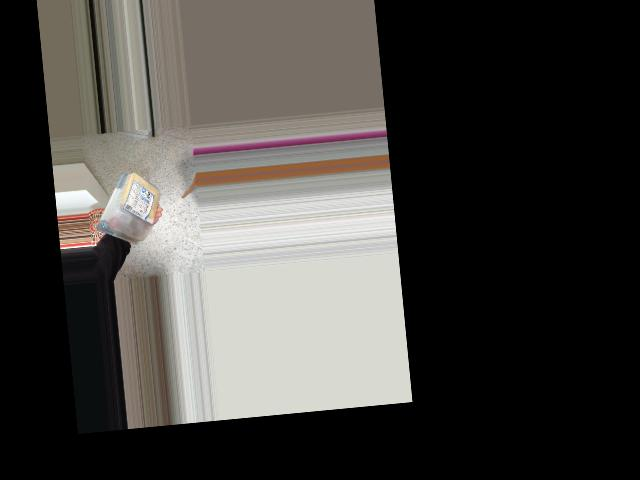cheese: (87, 164, 170, 251)
